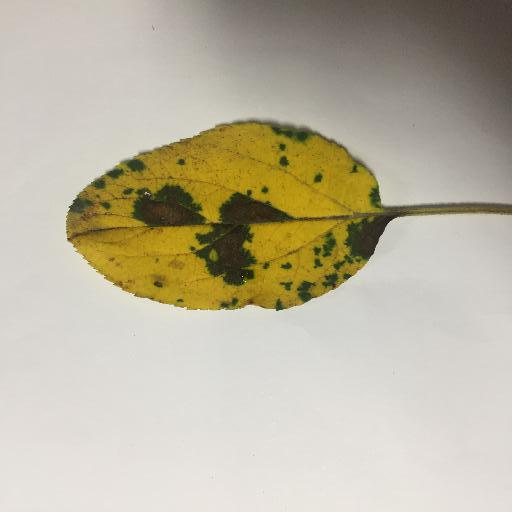Brown_Spot: (212, 188, 283, 279), (341, 217, 391, 265), (134, 199, 207, 228)
